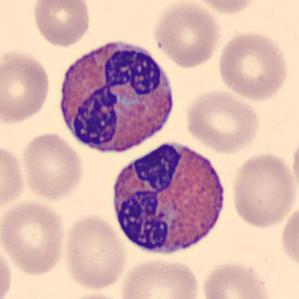Eosinophil: (53, 32, 182, 159), (106, 135, 231, 263)
RBC: (228, 150, 298, 230), (0, 198, 68, 278), (215, 29, 290, 101), (61, 212, 128, 292), (183, 88, 262, 154), (19, 130, 87, 202), (151, 1, 223, 68), (0, 48, 52, 126), (118, 256, 202, 299), (29, 0, 92, 48), (200, 258, 273, 299), (0, 142, 28, 213), (278, 200, 299, 274), (188, 0, 262, 15), (0, 239, 14, 299), (289, 132, 299, 199), (59, 291, 129, 299)
